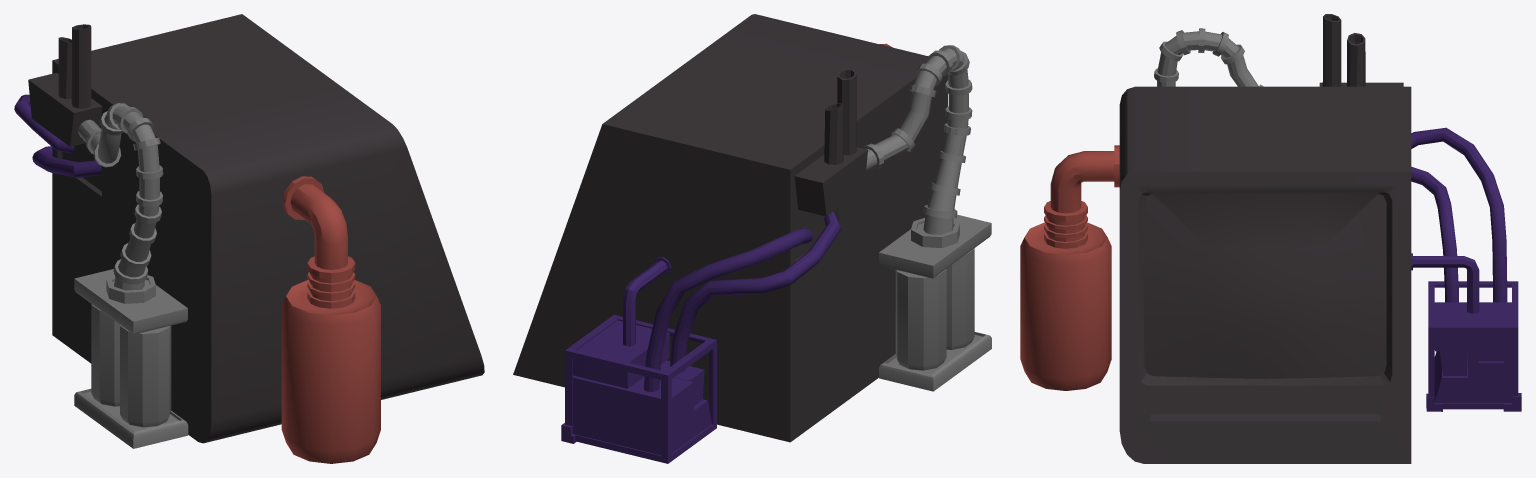
Rendered from Research_Building.fbx.
3 renders of one model, left to right at view 1: azimuth 30°, elevation 25°; view 2: azimuth 150°, elevation 25°; view 3: azimuth 270°, elevation 25°, orthographic. The views are drawn at different scales.
Visible parts, largest first — view 1: Computer, Can, Battery, Generator; view 2: Computer, Generator, Battery; view 3: Computer, Can, Generator, Battery.
Boxes of the visible parts, x1,y1,x2,y2 form: Computer: (28, 14, 484, 443); Can: (281, 176, 380, 463); Battery: (74, 103, 188, 448); Generator: (14, 94, 101, 177); Computer: (513, 14, 947, 442); Generator: (561, 211, 840, 463); Battery: (862, 45, 991, 391); Computer: (1119, 14, 1411, 463); Can: (1020, 145, 1119, 390); Generator: (1411, 127, 1521, 411); Battery: (1154, 28, 1263, 86).
Size of the model in its own units: 949 by 917 by 1317.
